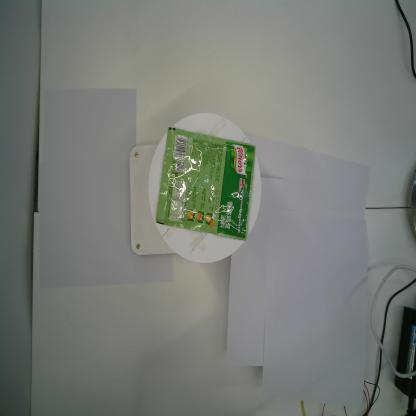Seasoner: (156, 127, 256, 241)
